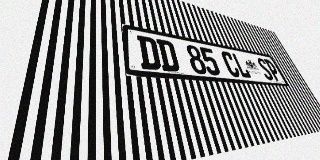5: (199, 47, 222, 76)
8: (185, 44, 208, 75)
C: (220, 51, 242, 78)
D: (137, 35, 162, 71), (156, 39, 180, 72)
L: (231, 53, 252, 79)
P: (263, 59, 283, 81)
S: (255, 57, 275, 81)
